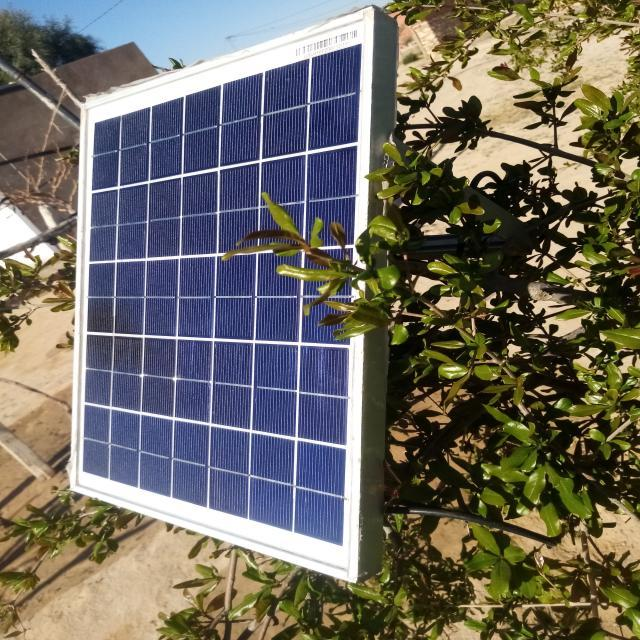no faulty: (68, 12, 371, 582)
